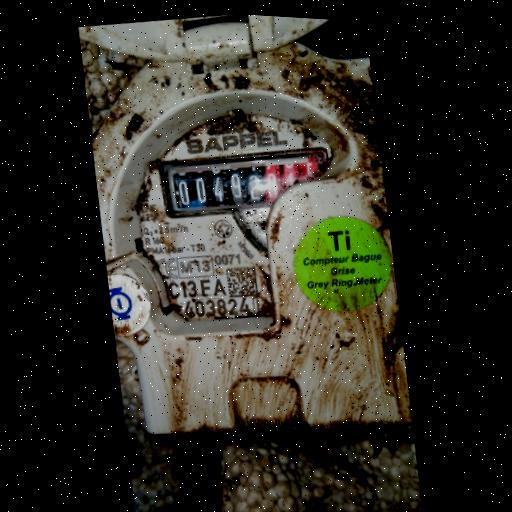0: (189, 169, 212, 210), (172, 170, 193, 210)
2: (241, 165, 265, 205)
4: (207, 169, 228, 207)
8: (261, 163, 283, 206)
9: (225, 166, 247, 206)
border_water_meter_number: (155, 135, 334, 228)
